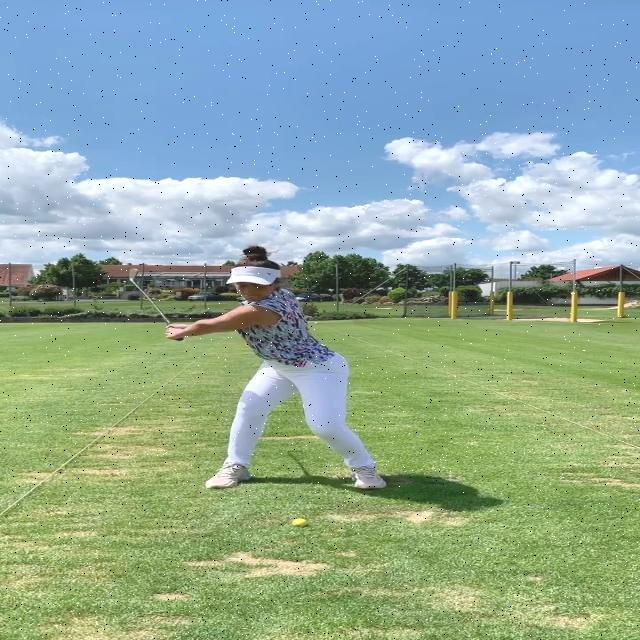ClubHead: (128, 268, 139, 279)
GolfBall: (292, 518, 308, 526)
